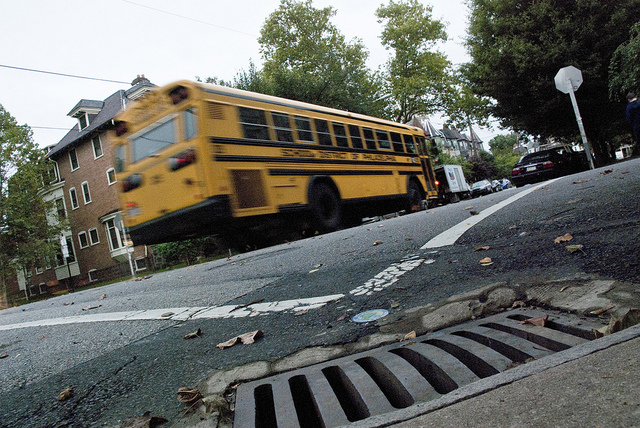Bus: (93, 79, 448, 237)
